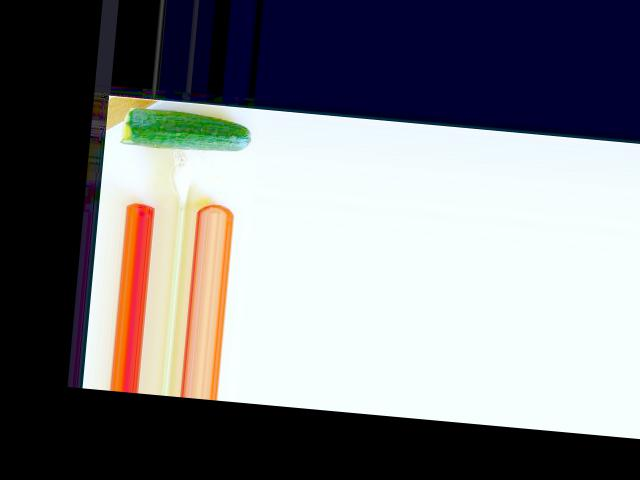cucumber: (120, 105, 254, 155)
